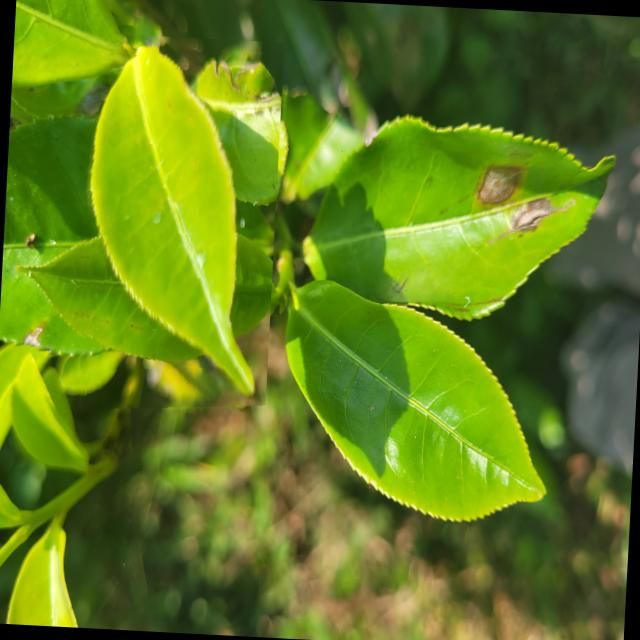Catagory A(1-2 days): (72, 31, 284, 418)
